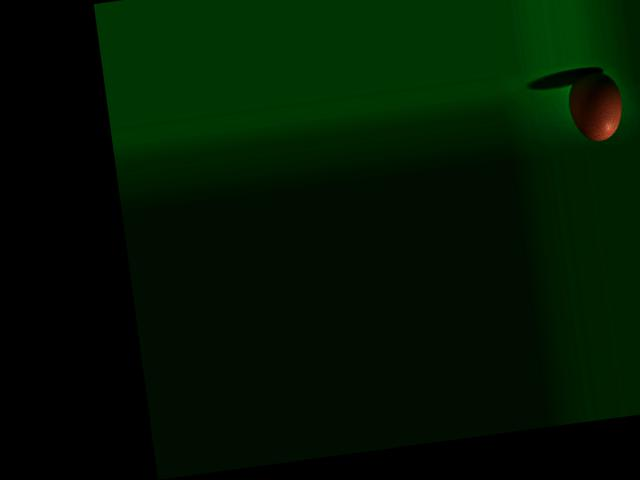egg: (564, 67, 626, 143)
